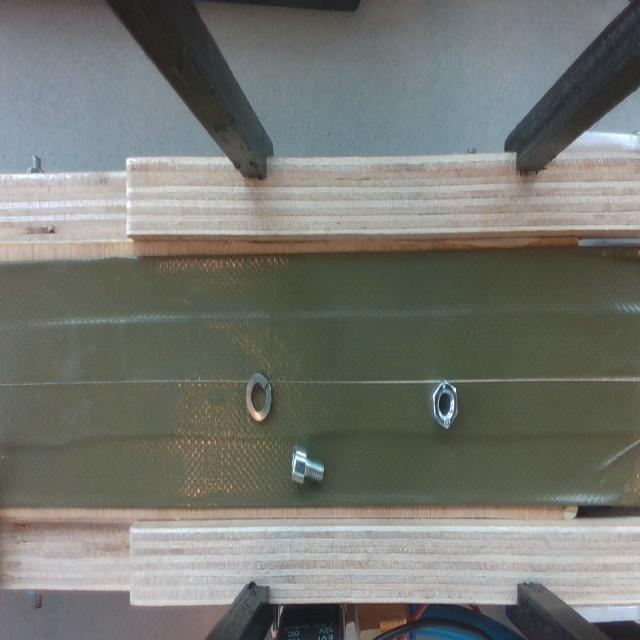Bolt: (286, 443, 334, 489)
Nut: (426, 378, 469, 433)
Washer: (242, 368, 278, 429)
